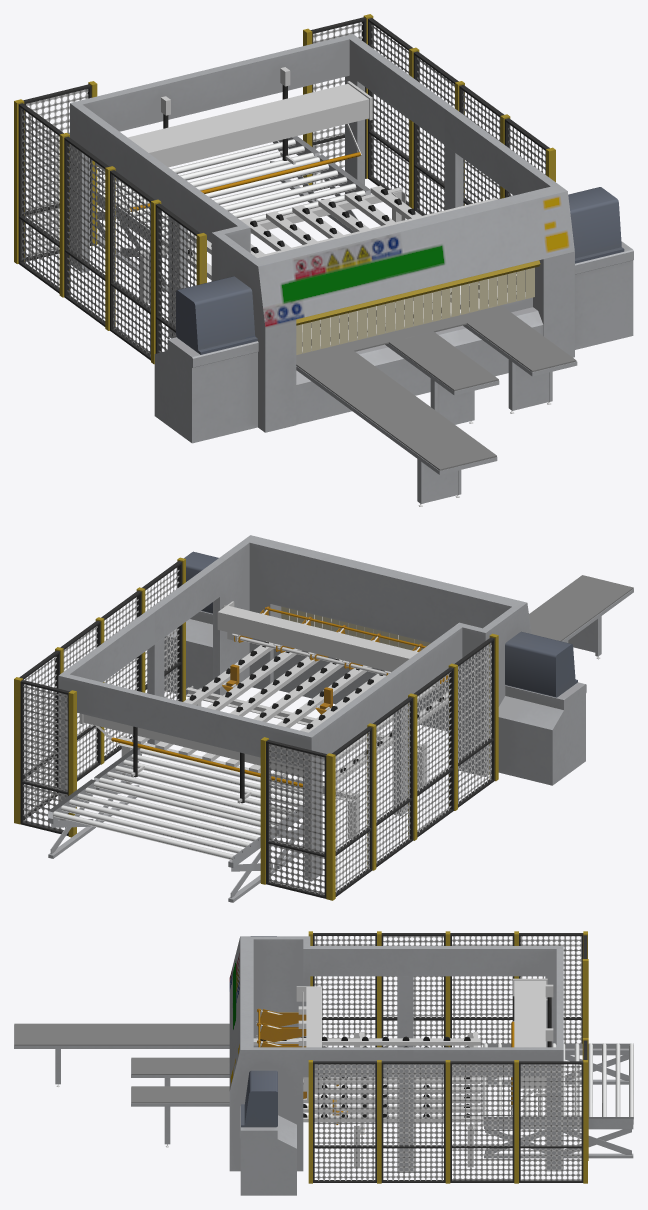
File: The attachment machine.gltf
3 views of the same model, one above another, from view 1: azimuth 30°, elevation 25°; view 2: azimuth 150°, elevation 25°; view 3: azimuth 270°, elevation 25° (orthographic). The views are drawn at different scales.
Parts seen in each view (by area): view 1: The_attachment_machine, The_attachment_machine_2, roller, roller01; view 2: The_attachment_machine, roller01, roller, The_attachment_machine_1, The_attachment_machine_2, The_attachment_machine_13, The_attachment_machine_3; view 3: The_attachment_machine, roller01, The_attachment_machine_2, roller, The_attachment_machine_1, The_attachment_machine_12.
Part boxes in pixels (x1,y1,x2,y2): The_attachment_machine: (14,14,633,506); The_attachment_machine_2: (96,67,372,211); roller: (116,154,370,292); roller01: (97,136,319,253); The_attachment_machine: (14,535,633,900); roller01: (48,779,275,902); roller: (94,747,304,868); The_attachment_machine_1: (217,601,439,690); The_attachment_machine_2: (80,713,324,803); The_attachment_machine_13: (261,606,426,651); The_attachment_machine_3: (222,664,332,714); The_attachment_machine: (14,931,588,1195); roller01: (563,1043,633,1158); The_attachment_machine_2: (511,978,553,1108); roller: (483,1043,556,1158); The_attachment_machine_1: (296,986,321,1099); The_attachment_machine_12: (256,1009,306,1098).
Size of the model in its own units: 344 by 120 by 556.
Materials: 5 (5 with a texture image).
